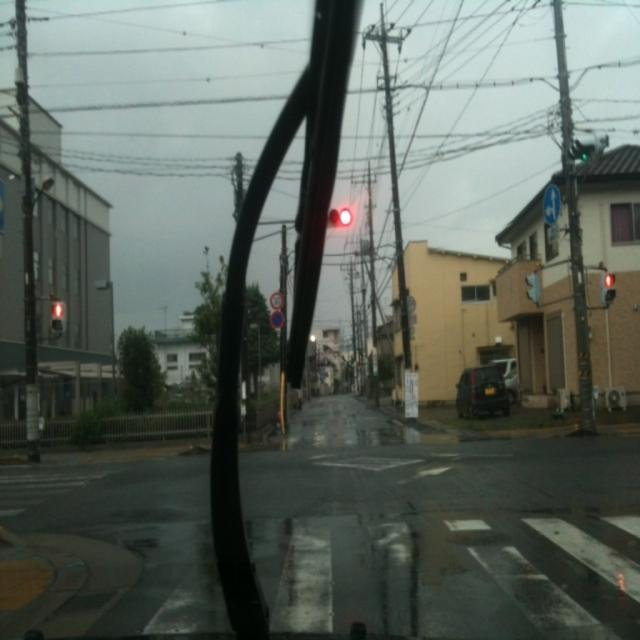traffic light: (601, 272, 619, 306), (48, 298, 64, 333)
